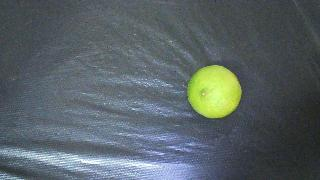LOCAL: (187, 65, 241, 118)
